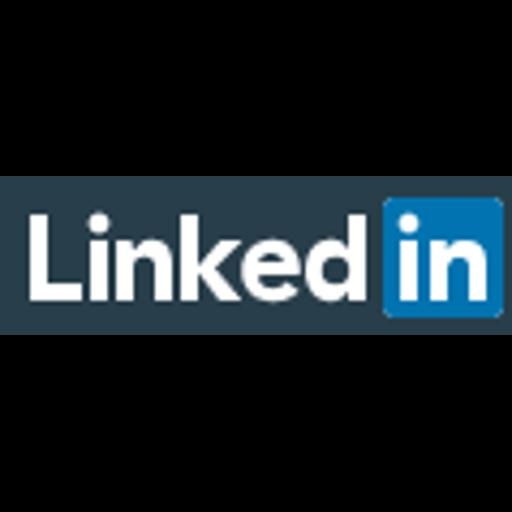LinkedIn Corporation: (0, 176, 512, 335)
